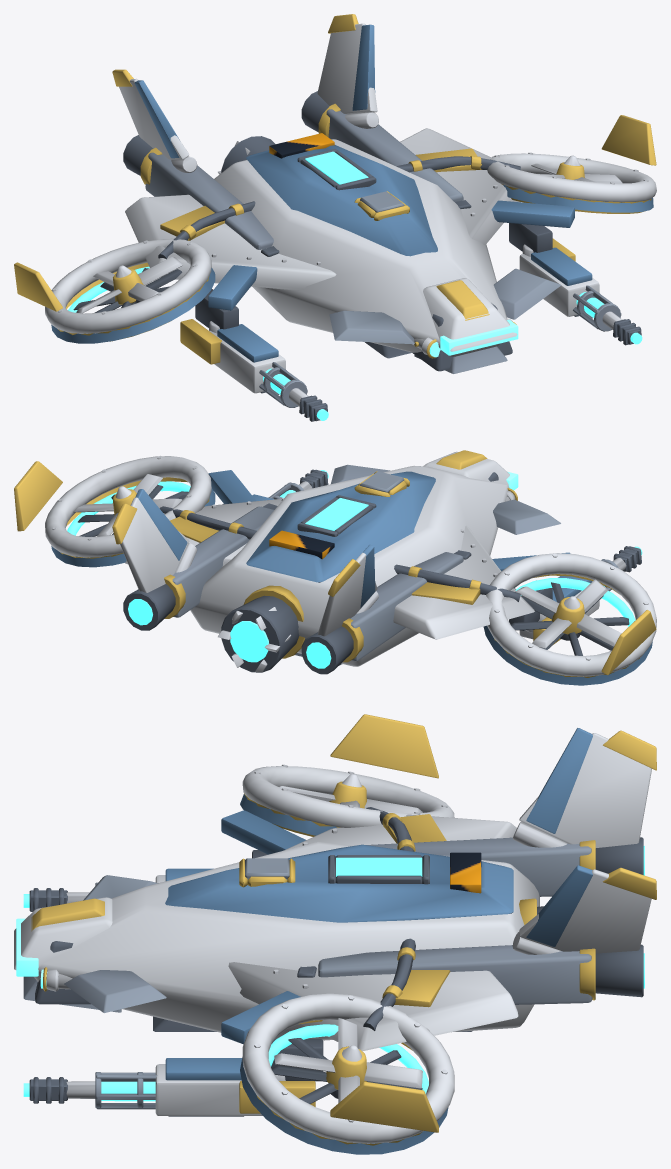
The model's file is interceptor_drone.glb.
3 renders of one model, top to bottom at view 1: azimuth 30°, elevation 25°; view 2: azimuth 150°, elevation 25°; view 3: azimuth 270°, elevation 25°, orthographic. The views are drawn at different scales.
Visible parts, largest first — view 1: BodyGroup_ArmorAlloy, FanShroud_0_ArmorAlloy, FanShroud_1_ArmorAlloy, HeadGroup_ArmorAlloy, Stabilizer_L_ArmorAlloy, WeaponSlide_ArmorAlloy, LeftWeaponSlide_ArmorAlloy, Stabilizer_R_ArmorAlloy, RightArm_ArmorAlloy, Rotor_0_ArmorAlloy, BodyGroup_A2_CyanReactor, LeftArm_ArmorAlloy (+3 smaller); view 2: BodyGroup_ArmorAlloy, FanShroud_0_ArmorAlloy, FanShroud_1_ArmorAlloy, BodyGroup_A2_CyanReactor, Stabilizer_L_ArmorAlloy, Rotor_0_ArmorAlloy, Stabilizer_R_ArmorAlloy, HeadGroup_ArmorAlloy, Rotor_1_ArmorAlloy, WeaponSlide_ArmorAlloy, BodyGroup_A2_Hazard, LeftWeaponSlide_ArmorAlloy (+1 smaller); view 3: BodyGroup_ArmorAlloy, FanShroud_1_ArmorAlloy, Stabilizer_R_ArmorAlloy, Stabilizer_L_ArmorAlloy, FanShroud_0_ArmorAlloy, LeftWeaponSlide_ArmorAlloy, HeadGroup_ArmorAlloy, Rotor_1_ArmorAlloy, BodyGroup_A2_CyanReactor, Rotor_0_ArmorAlloy, LeftArm_ArmorAlloy, WeaponSlide_ArmorAlloy (+3 smaller).
Part boxes in pixels (<box>): BodyGroup_ArmorAlloy: <box>14,91,656,358</box>; FanShroud_0_ArmorAlloy: <box>45,238,215,343</box>; FanShroud_1_ArmorAlloy: <box>487,152,656,213</box>; HeadGroup_ArmorAlloy: <box>412,278,517,373</box>; Stabilizer_L_ArmorAlloy: <box>317,14,378,128</box>; WeaponSlide_ArmorAlloy: <box>209,324,327,421</box>; LeftWeaponSlide_ArmorAlloy: <box>519,247,641,345</box>; Stabilizer_R_ArmorAlloy: <box>112,69,197,172</box>; RightArm_ArmorAlloy: <box>180,289,238,364</box>; Rotor_0_ArmorAlloy: <box>76,257,183,313</box>; BodyGroup_A2_CyanReactor: <box>68,151,368,312</box>; LeftArm_ArmorAlloy: <box>509,223,575,261</box>; BodyGroup_ArmorAlloy: <box>14,461,656,675</box>; FanShroud_0_ArmorAlloy: <box>483,553,656,685</box>; FanShroud_1_ArmorAlloy: <box>45,455,215,567</box>; BodyGroup_A2_CyanReactor: <box>67,481,635,668</box>; Stabilizer_L_ArmorAlloy: <box>112,489,197,592</box>; Rotor_0_ArmorAlloy: <box>515,579,621,648</box>; Stabilizer_R_ArmorAlloy: <box>317,544,378,636</box>; HeadGroup_ArmorAlloy: <box>423,450,517,501</box>; Rotor_1_ArmorAlloy: <box>73,474,182,536</box>; WeaponSlide_ArmorAlloy: <box>519,546,641,639</box>; BodyGroup_A2_Hazard: <box>269,530,334,559</box>; LeftWeaponSlide_ArmorAlloy: <box>252,469,328,500</box>; BodyGroup_ArmorAlloy: <box>34,714,643,1132</box>; FanShroud_1_ArmorAlloy: <box>240,993,454,1154</box>; Stabilizer_R_ArmorAlloy: <box>512,728,656,847</box>; Stabilizer_L_ArmorAlloy: <box>512,865,656,954</box>; FanShroud_0_ArmorAlloy: <box>240,764,454,836</box>; LeftWeaponSlide_ArmorAlloy: <box>29,1058,262,1116</box>; HeadGroup_ArmorAlloy: <box>14,897,121,1012</box>; Rotor_1_ArmorAlloy: <box>274,1018,422,1102</box>; BodyGroup_A2_CyanReactor: <box>268,846,644,1093</box>; Rotor_0_ArmorAlloy: <box>279,774,422,812</box>; LeftArm_ArmorAlloy: <box>239,1039,323,1113</box>; WeaponSlide_ArmorAlloy: <box>29,868,213,911</box>.
Bounding box in the file's own units: 1.73 × 0.4841 × 1.26.
10 materials, 1 textured.
